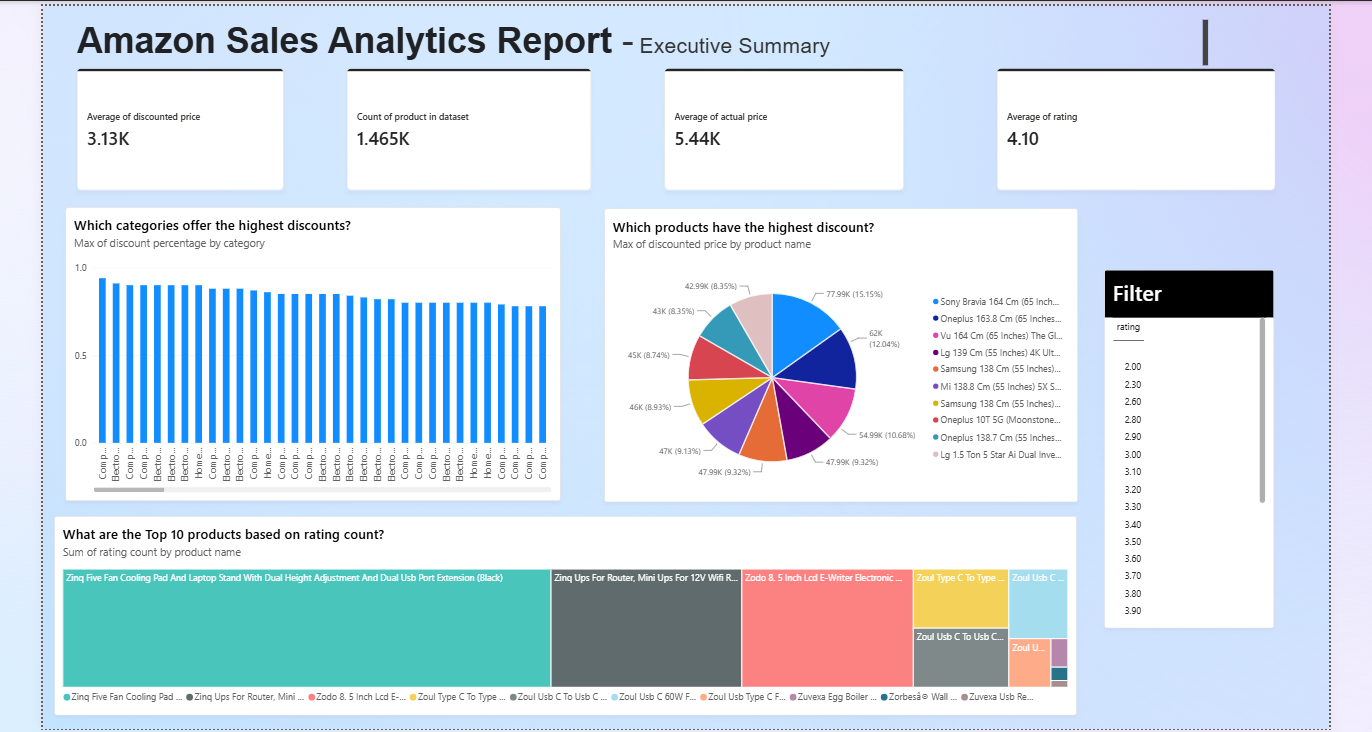

The dashboard page shown, as its layout file describes it:
{"tool":"powerbi","page":{"name":"KPI Cards","canvas":[1920,1080],"ordinal":0},"visuals":[{"type":"cardVisual","fields":{"Data":["CountNonNull(Sheet1.product in dataset)"]},"box":[453.4,93.3,365.7,182.9],"z":0},{"type":"cardVisual","fields":{"Data":["Avg(Sheet1.discounted price)"]},"box":[50.4,93.3,309.7,182.9],"z":1000},{"type":"cardVisual","fields":{"Data":["Avg(Sheet1.actual price)"]},"box":[927.4,93.3,358.3,182.9],"z":2000},{"type":"cardVisual","fields":{"Data":["Avg(Sheet1.rating)"]},"box":[1423.7,93.3,416.1,182.9],"z":3000},{"type":"tableEx","title":"Filter","fields":{"Values":["Sheet1.rating"]},"box":[1584.8,393.5,253.8,535.5],"z":4000},{"type":"textbox","box":[50.4,20.5,1688.7,72.8],"z":5000},{"type":"columnChart","title":"Which categories offer the highest discounts?","fields":{"Category":["Sheet1.category"],"Y":["Max(Sheet1.discount percentage)"]},"box":[33.6,300.4,738.9,438.5],"z":6000},{"type":"pieChart","title":"Which products have the highest discount?","fields":{"Category":["Sheet1.product name"],"Y":["Max(Sheet1.discounted price)"]},"box":[837.8,302.3,707.2,438.5],"z":7000},{"type":"treemap","title":"What are the Top 10 products based on rating count?","fields":{"Group":["Sheet1.product name"],"Values":["Sum(Sheet1.rating count)"]},"box":[17.4,760.9,1526.1,297.8],"z":8000}]}

Visuals, with their boxes on the page's 1920x1080 design canvas (x1, y1, x2, y2). These are canvas units, not pixel positions in the 1372x732 screenshot, which may show the page scaled, cropped or inside an application window:
cardVisual - CountNonNull(Sheet1.product in dataset): <box>453,93,819,276</box>
cardVisual - Avg(Sheet1.discounted price): <box>50,93,360,276</box>
cardVisual - Avg(Sheet1.actual price): <box>927,93,1286,276</box>
cardVisual - Avg(Sheet1.rating): <box>1424,93,1840,276</box>
"Filter" tableEx: <box>1585,394,1839,929</box>
textbox: <box>50,20,1739,93</box>
"Which categories offer the highest discounts?" columnChart: <box>34,300,772,739</box>
"Which products have the highest discount?" pieChart: <box>838,302,1545,741</box>
"What are the Top 10 products based on rating count?" treemap: <box>17,761,1544,1059</box>
